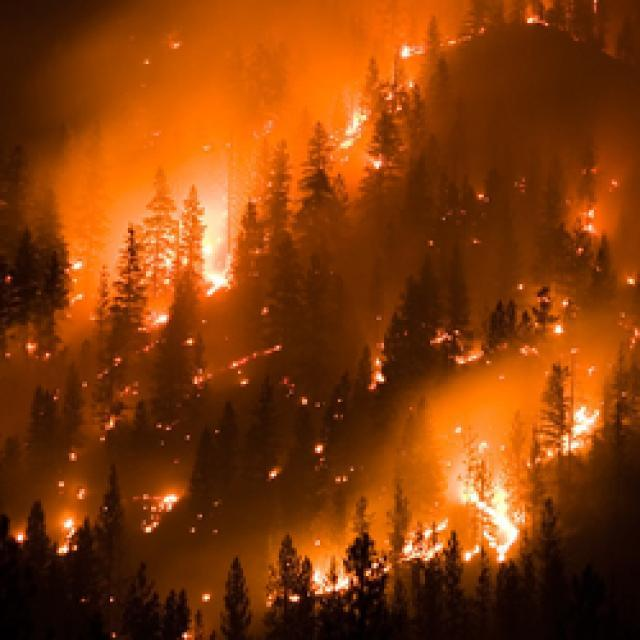Fire: (112, 164, 266, 308), (270, 66, 388, 190), (446, 430, 544, 574), (58, 376, 204, 450), (547, 371, 630, 471), (408, 308, 509, 382), (131, 476, 222, 548), (26, 469, 93, 562), (172, 329, 284, 380), (379, 30, 511, 73), (283, 552, 386, 604), (378, 510, 442, 572), (352, 309, 392, 400), (534, 276, 576, 358), (512, 0, 610, 31), (272, 376, 320, 414)
Smoke: (0, 0, 260, 155), (0, 112, 108, 364)
